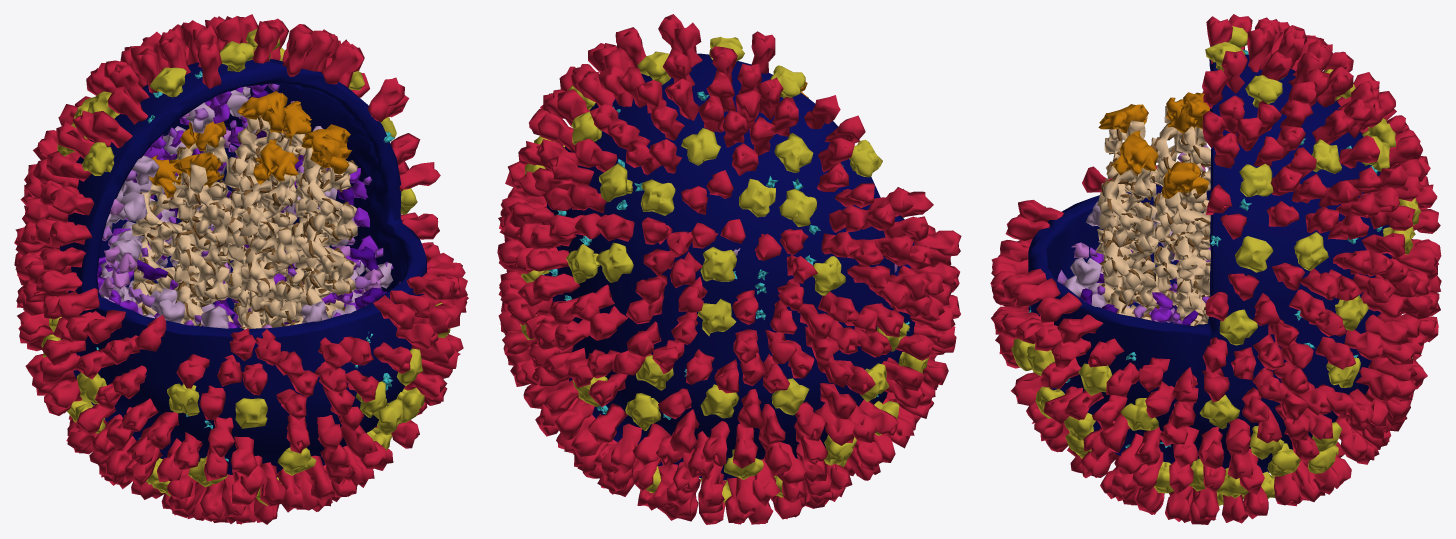
The model's file is influenza-virion.glb.
The picture shows the model from 3 angles, left to right: view 1: azimuth 30°, elevation 25°; view 2: azimuth 150°, elevation 25°; view 3: azimuth 270°, elevation 25°; orthographic projection. The views are drawn at different scales.
Bounding box in the file's own units: 0.0402 × 0.0454 × 0.0396.
